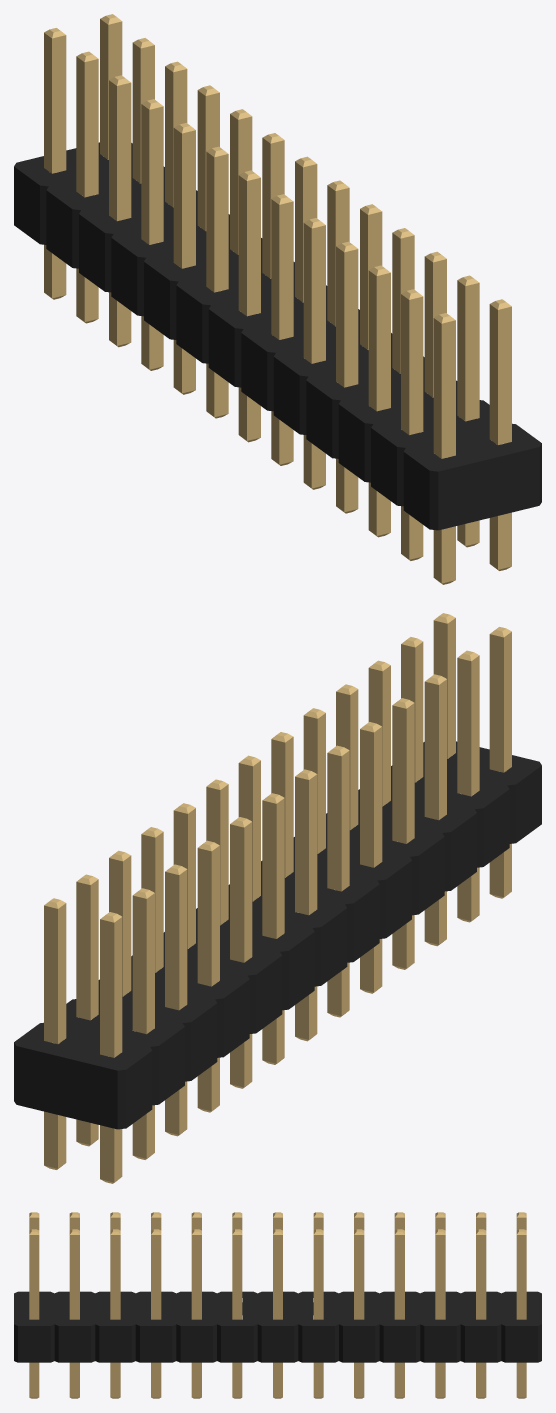
The model's file is kc-pinheader_2x13_p2.54mm_vertical.glb.
3 views of the same model, one above another, from view 1: azimuth 30°, elevation 25°; view 2: azimuth 150°, elevation 25°; view 3: azimuth 270°, elevation 25° (orthographic). The views are drawn at different scales.
Parts seen in each view (by area): view 1: 0.75_0.5_0.25_0.9, 0_0_0_0; view 2: 0.75_0.5_0.25_0.9, 0_0_0_0; view 3: 0_0_0_0, 0.75_0.5_0.25_0.9.
Boxes of the visible parts, bbox=[...] form: 0.75_0.5_0.25_0.9: bbox=[44, 14, 511, 584]; 0_0_0_0: bbox=[14, 142, 541, 530]; 0.75_0.5_0.25_0.9: bbox=[44, 613, 511, 1183]; 0_0_0_0: bbox=[14, 741, 541, 1129]; 0_0_0_0: bbox=[14, 1291, 541, 1362]; 0.75_0.5_0.25_0.9: bbox=[29, 1212, 526, 1398].
Size of the model in its own units: 0.5079 by 1.15 by 3.3.
